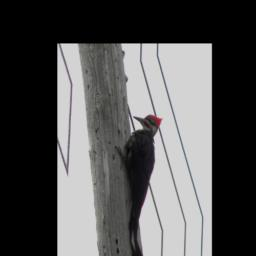Woodpecker: (111, 104, 176, 243)
